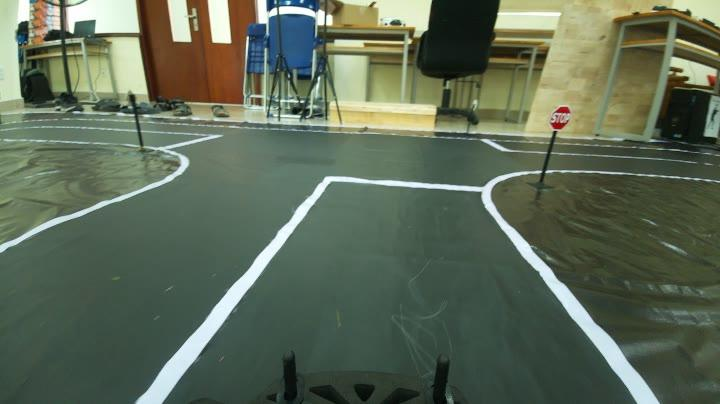stop: (546, 102, 574, 131)
